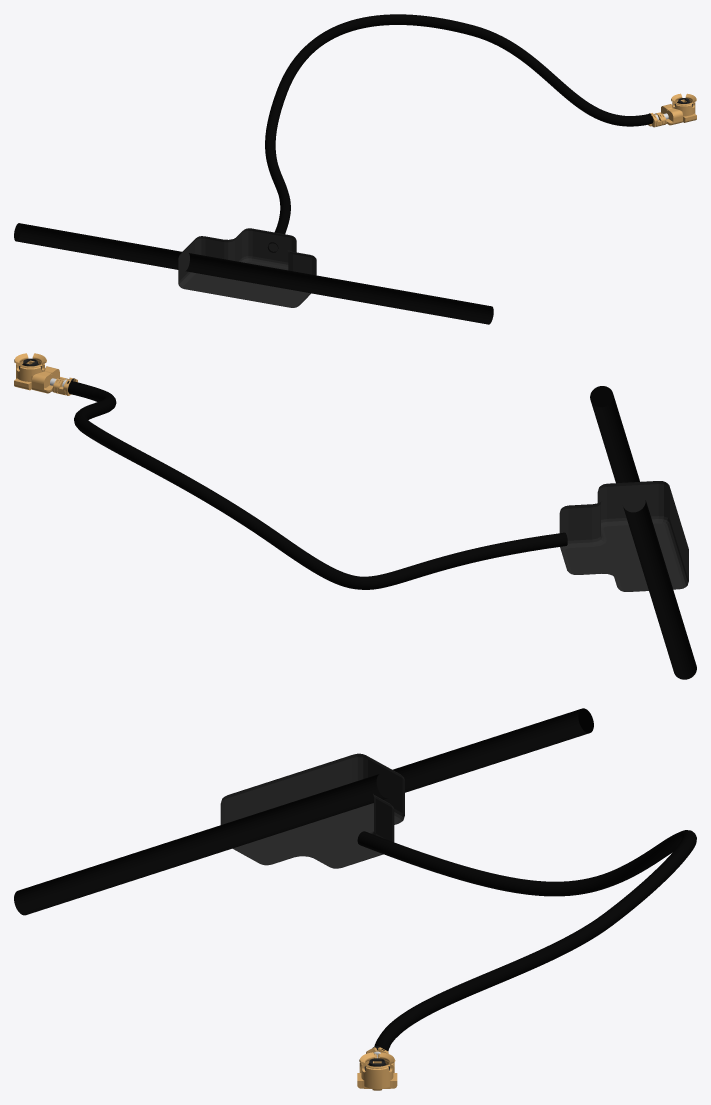
Rendered from rx_antenna.glb.
3 renders of one model, top to bottom at view 1: azimuth 30°, elevation 25°; view 2: azimuth 150°, elevation 25°; view 3: azimuth 270°, elevation 25°, orthographic. The views are drawn at different scales.
Visible parts, largest first — view 1: rx_antenna, BezierCurve, ipex_female; view 2: rx_antenna, BezierCurve, ipex_female; view 3: rx_antenna, BezierCurve, ipex_female.
Part boxes in pixels (x1,y1,x2,y2): rx_antenna: [14, 223, 493, 324]; BezierCurve: [265, 14, 653, 252]; ipex_female: [648, 93, 696, 127]; rx_antenna: [559, 386, 696, 679]; BezierCurve: [67, 381, 567, 589]; ipex_female: [14, 353, 77, 395]; rx_antenna: [14, 708, 593, 915]; BezierCurve: [357, 830, 696, 1051]; ipex_female: [357, 1046, 397, 1090].
Bounding box in the file's own units: 0.6579 × 0.1169 × 0.4609.
